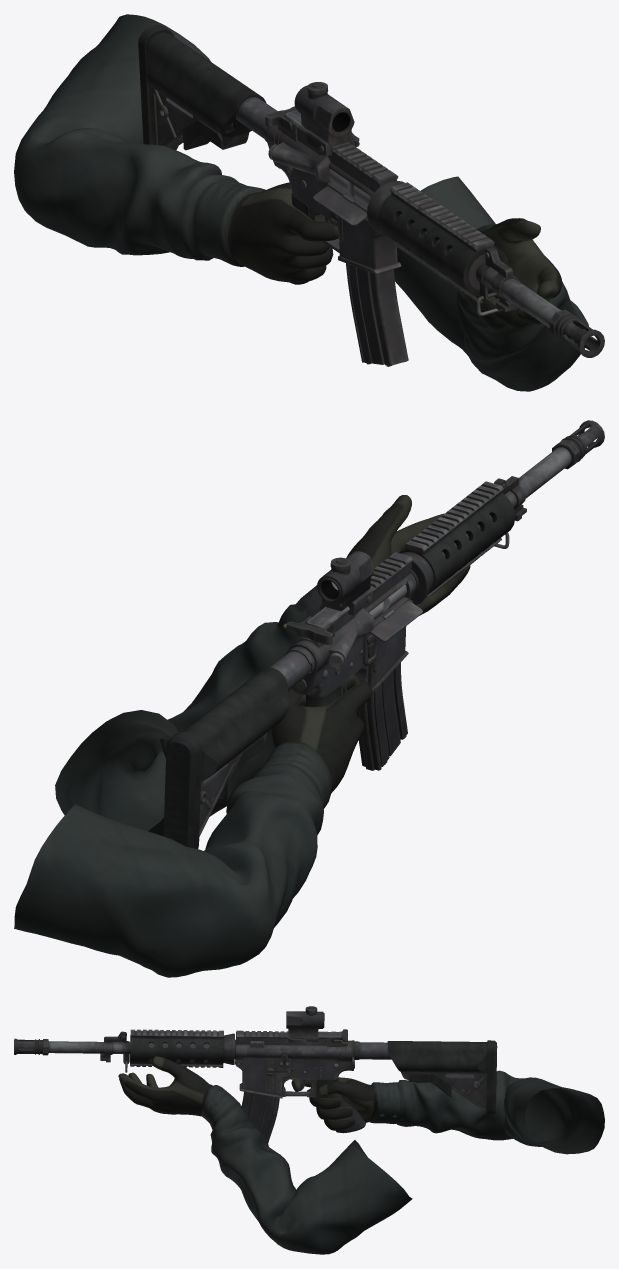
The model's file is gun_000009.obj.
The picture shows the model from 3 angles, top to bottom: view 1: azimuth 30°, elevation 25°; view 2: azimuth 150°, elevation 25°; view 3: azimuth 270°, elevation 25°; orthographic projection. The views are drawn at different scales.
Parts seen in each view (by area): view 1: armmesh_arms_0, base_carbine_0, clip_carbine_0, scope_carbine_0, lid_carbine_0, bolt_carbine_0; view 2: armmesh_arms_0, base_carbine_0, clip_carbine_0, scope_carbine_0, lid_carbine_0, handle_carbine_0; view 3: armmesh_arms_0, base_carbine_0, scope_carbine_0, clip_carbine_0.
Boxes of the visible parts, bbox=[...] form: armmesh_arms_0: bbox=[14, 14, 588, 391]; base_carbine_0: bbox=[138, 25, 604, 357]; clip_carbine_0: bbox=[346, 263, 408, 366]; scope_carbine_0: bbox=[294, 82, 359, 156]; lid_carbine_0: bbox=[313, 186, 367, 225]; bolt_carbine_0: bbox=[329, 169, 370, 206]; armmesh_arms_0: bbox=[14, 495, 475, 977]; base_carbine_0: bbox=[163, 420, 604, 848]; clip_carbine_0: bbox=[357, 662, 407, 770]; scope_carbine_0: bbox=[317, 551, 373, 615]; lid_carbine_0: bbox=[369, 600, 422, 641]; handle_carbine_0: bbox=[286, 616, 334, 644]; armmesh_arms_0: bbox=[118, 1056, 604, 1254]; base_carbine_0: bbox=[14, 1029, 497, 1133]; scope_carbine_0: bbox=[286, 1006, 324, 1043]; clip_carbine_0: bbox=[241, 1091, 279, 1143].
Size of the model in its own units: 47.99 by 44.28 by 124.
